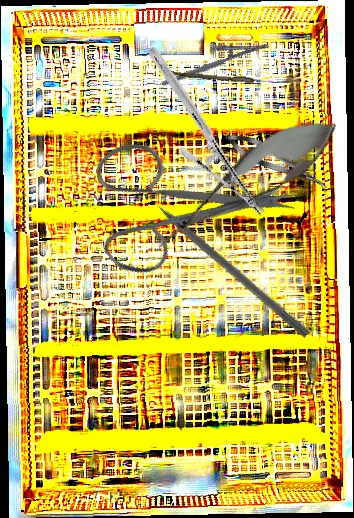Iris Scissors: (57, 78, 303, 322)
Micro Scissor: (141, 99, 350, 268), (221, 126, 333, 198)
Needle Holder: (104, 45, 309, 218), (155, 28, 270, 87)
Pusher: (135, 183, 312, 339)
Surgical Spoon: (161, 70, 287, 86)
